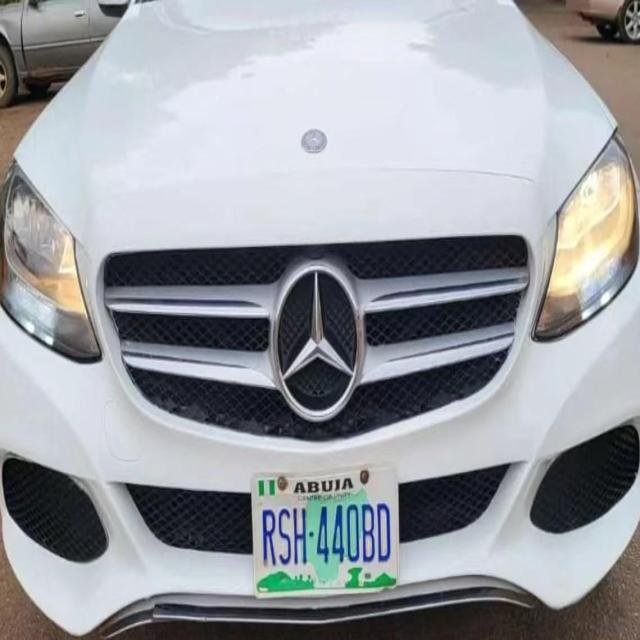Nigerian License Plate - vdataset benjamin-daria: (252, 465, 400, 601)
